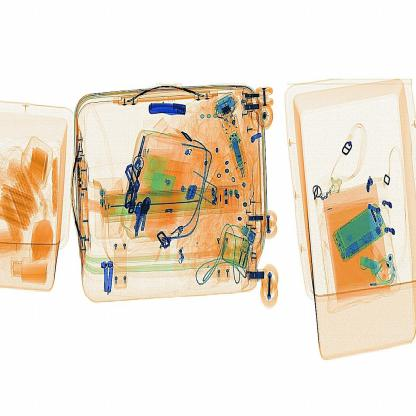knife: (143, 98, 188, 122)
